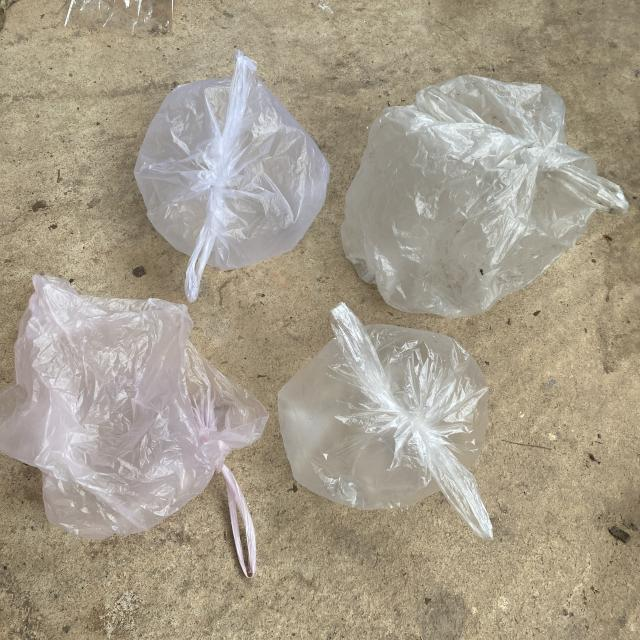Single-layer Plastic: (0, 275, 268, 578), (341, 75, 629, 318), (278, 304, 492, 539), (135, 50, 330, 301)
